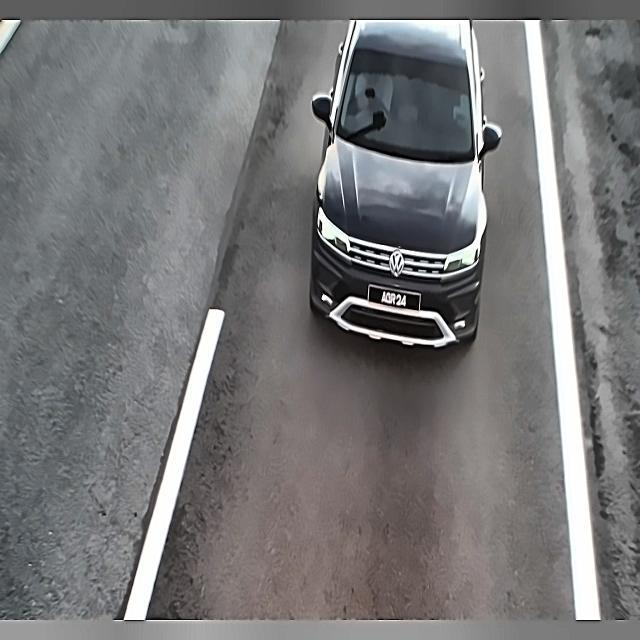car: (364, 278, 426, 319)
